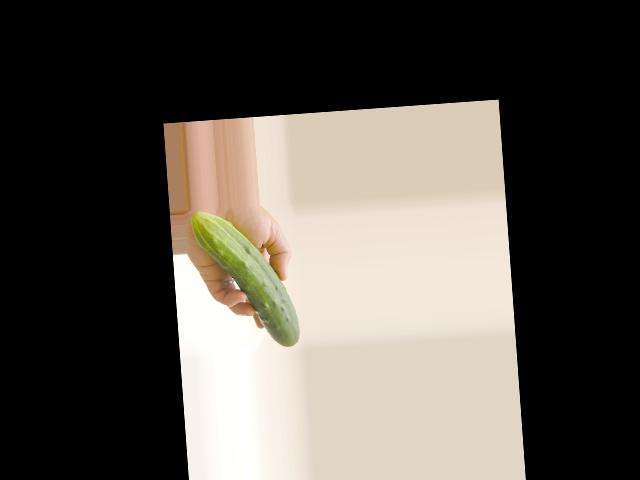cucumber: (190, 206, 299, 353)
